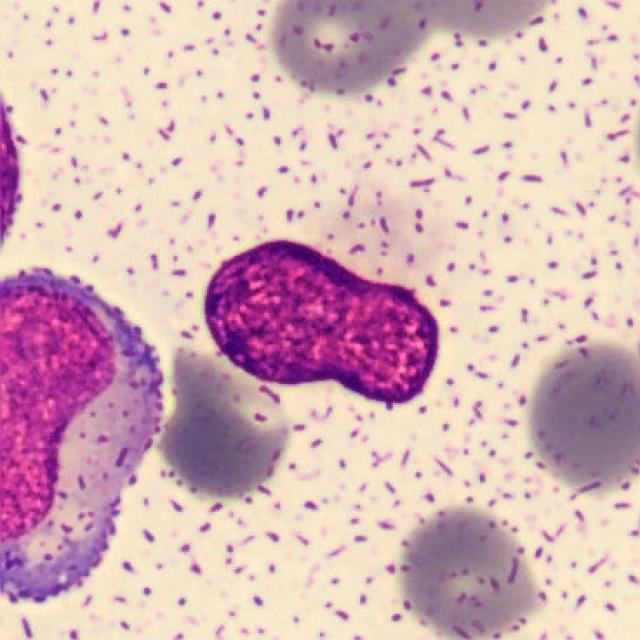Restos celulares: (202, 240, 438, 408)
